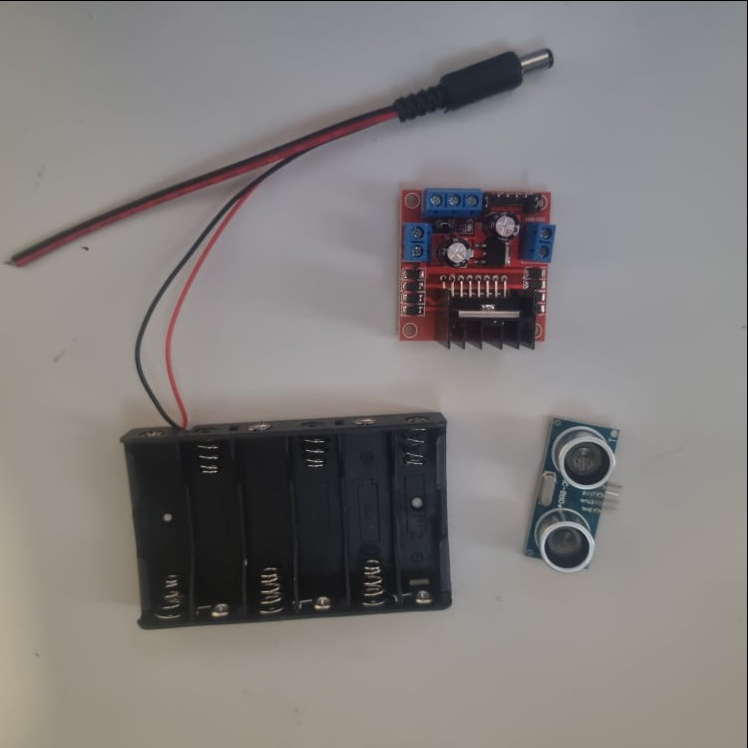BATTERY BOX: (119, 411, 454, 629)
MOTOR: (398, 186, 559, 347)
SENSOR: (521, 413, 631, 572)
